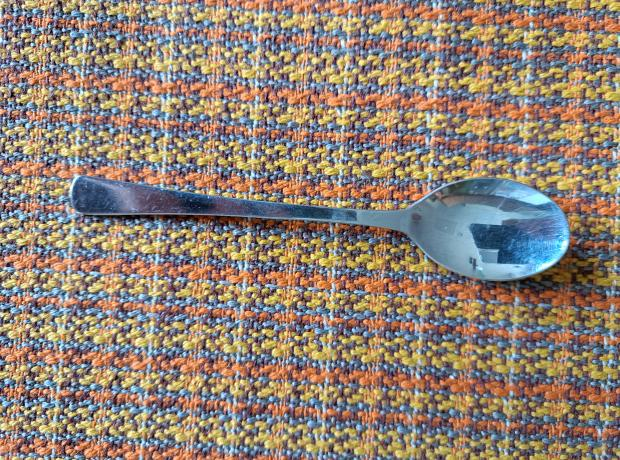metal: (67, 174, 570, 286)
